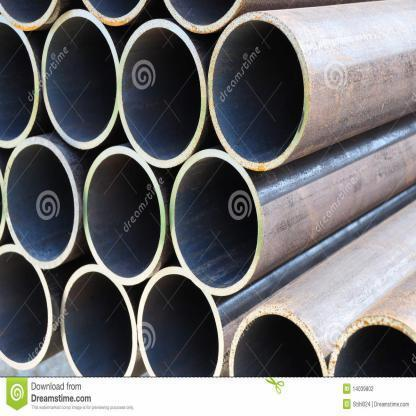pipe: (207, 11, 309, 170), (168, 149, 262, 296), (118, 18, 206, 169), (82, 145, 166, 285), (40, 8, 118, 149), (3, 136, 78, 269), (137, 266, 224, 378), (60, 264, 137, 382), (230, 306, 328, 378), (0, 245, 52, 370), (329, 314, 416, 377)
